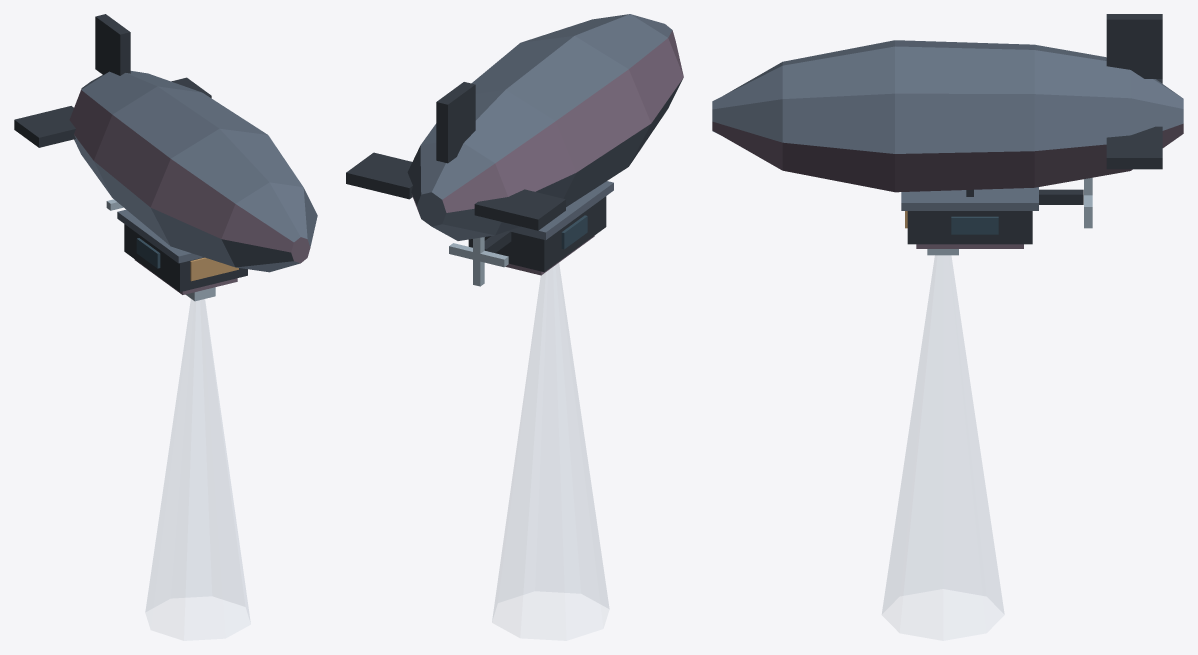
Rendered from gotham_blimp.glb.
The picture shows the model from 3 angles, left to right: view 1: azimuth 30°, elevation 25°; view 2: azimuth 150°, elevation 25°; view 3: azimuth 270°, elevation 25°; orthographic projection. The views are drawn at different scales.
Parts seen in each view (by area): view 1: Faceted airship envelope, Faint searchlight cone, Gondola cabin, Upper tail fin, Port tail fin, Gondola roof rim, Gondola forward window, Gondola port window; view 2: Faceted airship envelope, Faint searchlight cone, Gondola cabin, Upper tail fin, Port tail fin, Starboard tail fin, Gondola roof rim, Propeller horizontal blade, Gondola port window, Propeller vertical blade; view 3: Faceted airship envelope, Faint searchlight cone, Gondola cabin, Upper tail fin, Gondola roof rim, Starboard tail fin, Gondola starboard window, Propeller axle.
Part boxes in pixels (bbox=[...]): Faceted airship envelope: bbox=[69, 71, 317, 272]; Faint searchlight cone: bbox=[146, 299, 249, 619]; Gondola cabin: bbox=[124, 224, 247, 291]; Upper tail fin: bbox=[95, 14, 130, 75]; Port tail fin: bbox=[14, 106, 75, 147]; Gondola roof rim: bbox=[117, 209, 203, 263]; Gondola forward window: bbox=[190, 257, 238, 281]; Gondola port window: bbox=[136, 238, 160, 268]; Faceted airship envelope: bbox=[407, 14, 683, 240]; Faint searchlight cone: bbox=[493, 263, 608, 617]; Gondola cabin: bbox=[468, 196, 606, 272]; Upper tail fin: bbox=[436, 82, 475, 163]; Port tail fin: bbox=[474, 189, 565, 230]; Starboard tail fin: bbox=[346, 152, 412, 199]; Gondola roof rim: bbox=[508, 181, 613, 240]; Propeller horizontal blade: bbox=[449, 243, 508, 267]; Gondola port window: bbox=[561, 215, 587, 249]; Propeller vertical blade: bbox=[473, 237, 484, 286]; Faceted airship envelope: bbox=[712, 40, 1183, 192]; Faint searchlight cone: bbox=[882, 256, 1003, 613]; Gondola cabin: bbox=[907, 211, 1032, 244]; Upper tail fin: bbox=[1106, 14, 1162, 78]; Gondola roof rim: bbox=[901, 187, 1038, 210]; Starboard tail fin: bbox=[1106, 126, 1162, 169]; Gondola starboard window: bbox=[951, 216, 998, 234]; Propeller axle: bbox=[1039, 189, 1083, 204].
Bounding box in the file's own units: 2.33 × 6.86 × 4.9.
